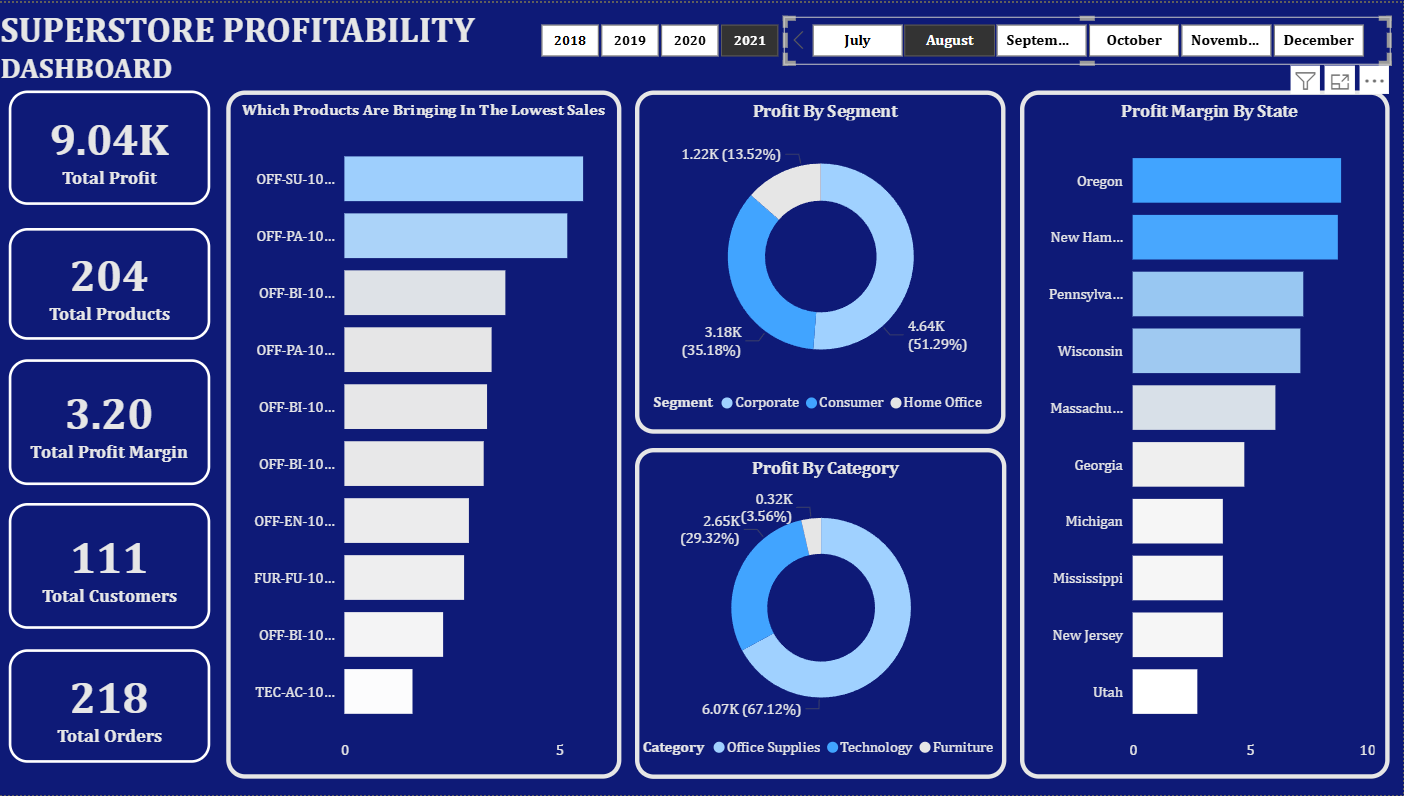

Layout of this report page (visuals, bound fields, positions):
{"tool":"powerbi","page":{"name":"Page 1","canvas":[1280,720],"ordinal":3},"visuals":[{"type":"donutChart","title":"Profit By Category","fields":{"Category":["Orders.Category"],"Y":["Sum(Orders.Profit)"]},"box":[581.8,404.8,337.6,300.5],"z":0},{"type":"barChart","title":"Profit Margin By State","fields":{"Y":["Sum(Orders.Profit Margin)"],"Category":["Orders.State"]},"box":[931.7,79.6,336.2,625.7],"z":1000},{"type":"clusteredBarChart","title":"Which Products Are Bringing In The Lowest Sales","fields":{"Category":["Orders.Product ID"],"Y":["Sum(Orders.Sales)"]},"box":[209.9,79.6,359.5,625.7],"z":2000},{"type":"donutChart","title":"Profit By Segment","fields":{"Category":["Orders.Segment"],"Y":["Sum(Orders.Profit)"]},"box":[582,80,337,312],"z":3000},{"type":"slicer","fields":{"Values":["Orders.Order Date.Variation.Date Hierarchy.Month"]},"box":[717,12.5,551.1,43.2],"z":4000},{"type":"slicer","fields":{"Values":["Orders.Order Date.Variation.Date Hierarchy.Year"]},"box":[470,12.9,265.7,42.9],"z":5000},{"type":"card","fields":{"Values":["Sum(Orders.Profit)"]},"box":[12.9,80,182.9,104.3],"z":6000},{"type":"card","fields":{"Values":["Median(Orders.Profit Margin)"]},"box":[12.9,324.3,182.9,114.3],"z":7000},{"type":"card","fields":{"Values":["Count(Orders.Product ID)"]},"box":[12.9,204.3,182.9,101.4],"z":8000},{"type":"card","fields":{"Values":["CountNonNull(Orders.Order ID)"]},"box":[12.9,587.1,182.9,102.9],"z":9000},{"type":"textbox","box":[0,0,460,80],"z":10000},{"type":"card","fields":{"Values":["Count(Orders.Order ID)"]},"box":[12.9,454.3,182.9,114.3],"z":11000}]}

Visuals, with their boxes in screenshot pixels (x1, y1, x2, y2), scaled from the page's 1280x720 canvas onto the 1404x796 screenshot:
"Profit By Category" donutChart: x1=638, y1=448, x2=1008, y2=780
"Profit Margin By State" barChart: x1=1022, y1=88, x2=1391, y2=780
"Which Products Are Bringing In The Lowest Sales" clusteredBarChart: x1=230, y1=88, x2=625, y2=780
"Profit By Segment" donutChart: x1=638, y1=88, x2=1008, y2=433
slicer - Orders.Order Date.Variation.Date Hierarchy.Month: x1=786, y1=14, x2=1391, y2=62
slicer - Orders.Order Date.Variation.Date Hierarchy.Year: x1=516, y1=14, x2=807, y2=62
card - Sum(Orders.Profit): x1=14, y1=88, x2=215, y2=204
card - Median(Orders.Profit Margin): x1=14, y1=359, x2=215, y2=485
card - Count(Orders.Product ID): x1=14, y1=226, x2=215, y2=338
card - CountNonNull(Orders.Order ID): x1=14, y1=649, x2=215, y2=763
textbox: x1=0, y1=0, x2=505, y2=88
card - Count(Orders.Order ID): x1=14, y1=502, x2=215, y2=629
